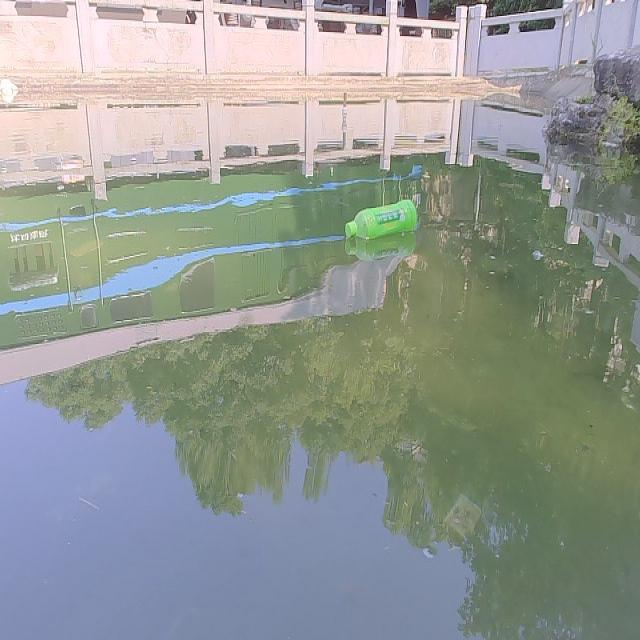Bottle: (339, 195, 419, 242)
